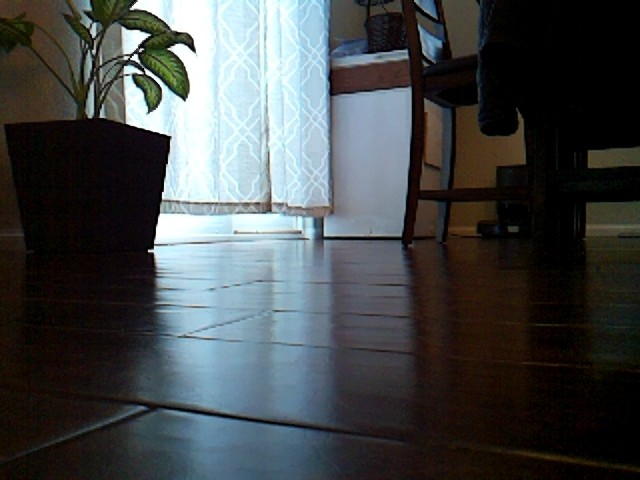Drivable Area: (0, 263, 640, 480), (184, 247, 396, 269)
Obstacle: (399, 0, 640, 250), (0, 0, 199, 253), (323, 3, 440, 240)
